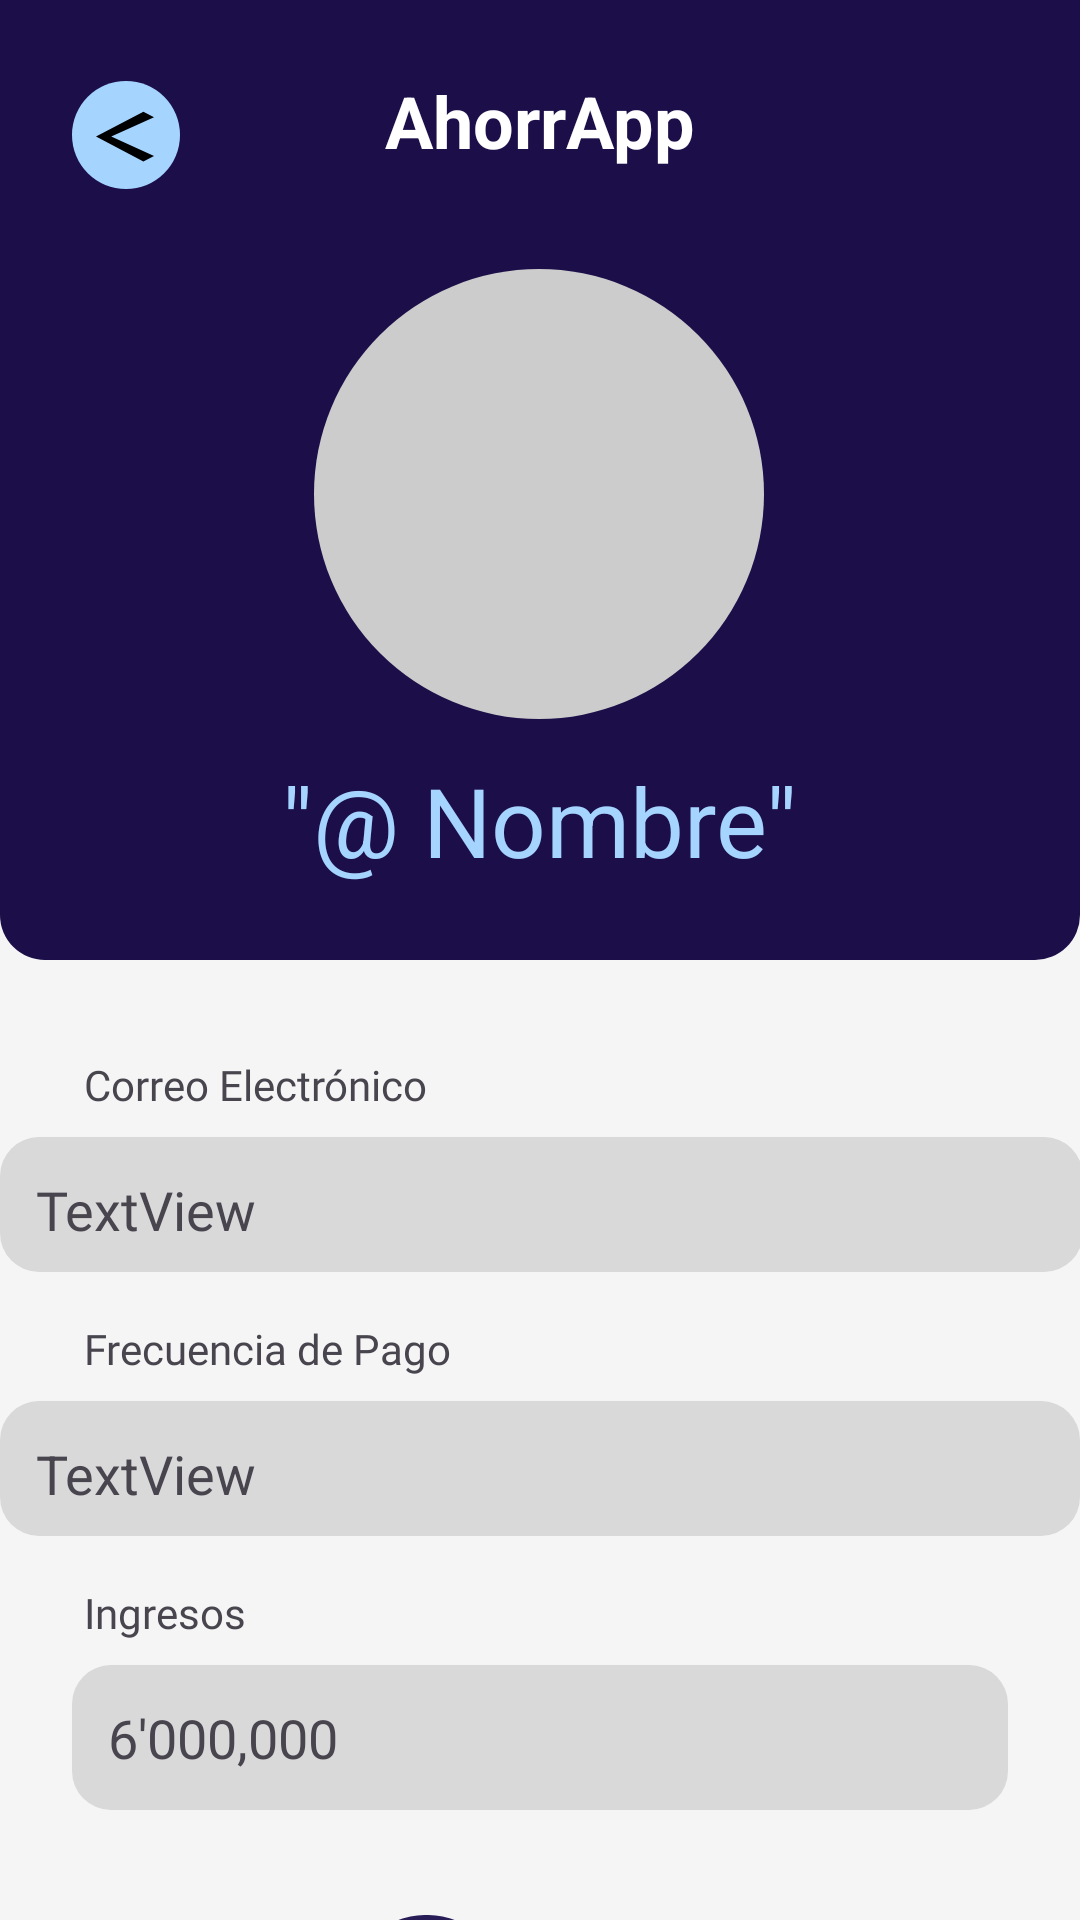

Named icons in this screenshot (1080px×1920px) and their centers, [x,y]:
arrow back: [126,135]
